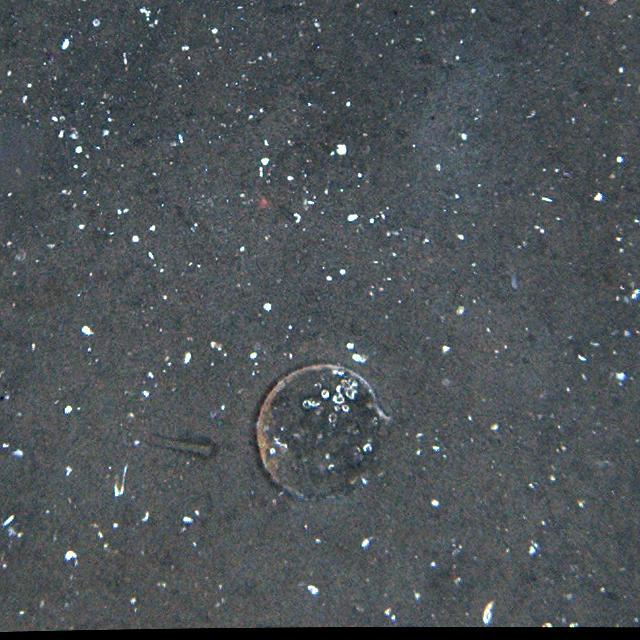scallop: (255, 361, 387, 505)
